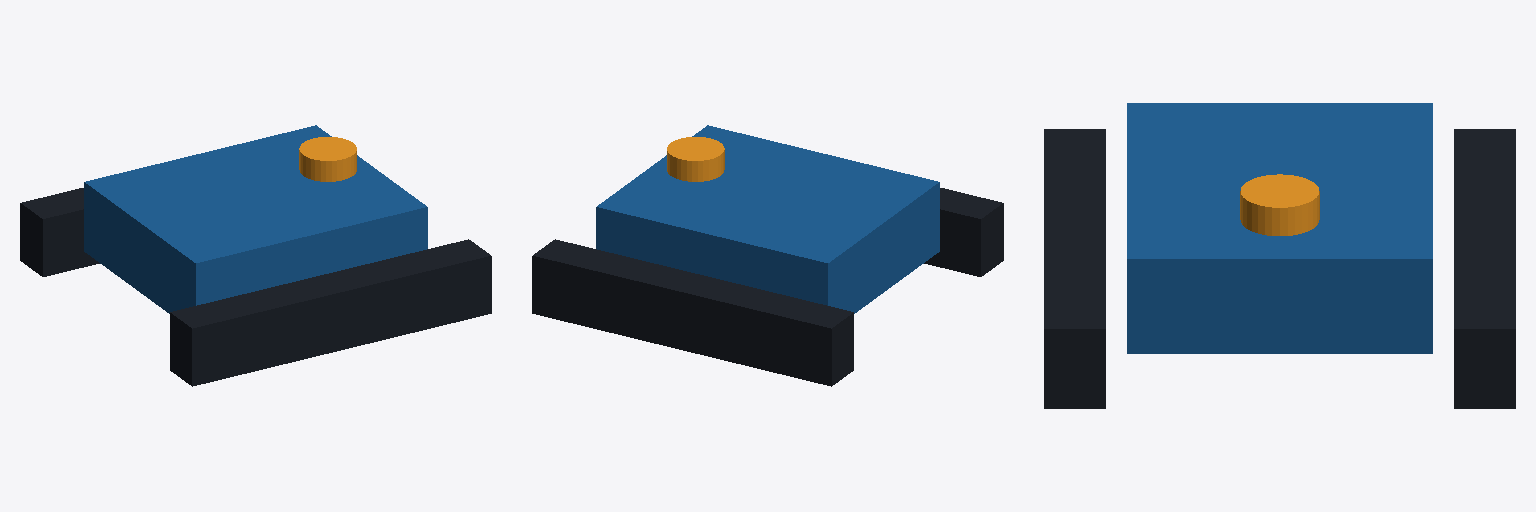
robot.urdf — tmr:
<?xml version="1.0" ?>
<!-- =================================================================================== -->
<!-- |    This document was autogenerated by xacro from /home/pvd/workspace/github-repos/TIL/Projects/Tracked_Mobile_Robot/05_ROS2_Integration/src/tmr_description/urdf/tmr.urdf.xacro | -->
<!-- |    EDITING THIS FILE BY HAND IS NOT RECOMMENDED                                 | -->
<!-- =================================================================================== -->
<robot name="tmr">
  <material name="chassis_blue">
    <color rgba="0.16 0.42 0.64 1"/>
  </material>
  <material name="track_gray">
    <color rgba="0.15 0.17 0.20 1"/>
  </material>
  <material name="sensor_amber">
    <color rgba="0.95 0.63 0.18 1"/>
  </material>
  <link name="base_footprint"/>
  <joint name="base_footprint_joint" type="fixed">
    <parent link="base_footprint"/>
    <child link="base_link"/>
    <origin xyz="0 0 0.05"/>
  </joint>
  <link name="base_link">
    <visual>
      <geometry>
        <box size="0.209 0.174 0.06"/>
      </geometry>
      <material name="chassis_blue"/>
    </visual>
    <visual>
      <origin xyz="0 0.1165 -0.025"/>
      <geometry>
        <box size="0.26949910223936435 0.035 0.05"/>
      </geometry>
      <material name="track_gray"/>
    </visual>
    <visual>
      <origin xyz="0 -0.1165 -0.025"/>
      <geometry>
        <box size="0.26949910223936435 0.035 0.05"/>
      </geometry>
      <material name="track_gray"/>
    </visual>
    <collision>
      <geometry>
        <box size="0.209 0.174 0.06"/>
      </geometry>
    </collision>
    <collision name="front_support">
      <origin xyz="0.09 0 -0.0398"/>
      <geometry>
        <sphere radius="0.01"/>
      </geometry>
    </collision>
    <collision name="rear_support">
      <origin xyz="-0.09 0 -0.0398"/>
      <geometry>
        <sphere radius="0.01"/>
      </geometry>
    </collision>
    <inertial>
      <mass value="3.05"/>
      <inertia ixx="0.008610149999999999" ixy="0" ixz="0" iyy="0.012017254166666665" iyz="0" izz="0.018797404166666663"/>
    </inertial>
  </link>
  <link name="left_wheel_link">
    <collision>
      <origin rpy="-1.5707963267948966 0 0"/>
      <geometry>
        <cylinder length="0.026" radius="0.021479551119682194"/>
      </geometry>
    </collision>
    <inertial>
      <mass value="0.1"/>
      <inertia ixx="1.7167611240909348e-05" ixy="0" ixz="0" iyy="2.306855581515203e-05" iyz="0" izz="1.7167611240909348e-05"/>
    </inertial>
  </link>
  <joint name="left_wheel_joint" type="continuous">
    <parent link="base_link"/>
    <child link="left_wheel_link"/>
    <origin xyz="0 0.1165 -0.02852044888031781"/>
    <axis xyz="0 1 0"/>
  </joint>
  <link name="right_wheel_link">
    <collision>
      <origin rpy="-1.5707963267948966 0 0"/>
      <geometry>
        <cylinder length="0.026" radius="0.021479551119682194"/>
      </geometry>
    </collision>
    <inertial>
      <mass value="0.1"/>
      <inertia ixx="1.7167611240909348e-05" ixy="0" ixz="0" iyy="2.306855581515203e-05" iyz="0" izz="1.7167611240909348e-05"/>
    </inertial>
  </link>
  <joint name="right_wheel_joint" type="continuous">
    <parent link="base_link"/>
    <child link="right_wheel_link"/>
    <origin xyz="0 -0.1165 -0.02852044888031781"/>
    <axis xyz="0 1 0"/>
  </joint>
  <link name="laser_frame">
    <visual>
      <geometry>
        <cylinder length="0.018" radius="0.0225"/>
      </geometry>
      <material name="sensor_amber"/>
    </visual>
  </link>
  <joint name="laser_joint" type="fixed">
    <parent link="base_link"/>
    <child link="laser_frame"/>
    <origin xyz="0.065 0 0.045"/>
  </joint>
  <link name="imu_link"/>
  <joint name="imu_joint" type="fixed">
    <parent link="base_link"/>
    <child link="imu_link"/>
    <origin xyz="0 0 0.035"/>
  </joint>
  <gazebo reference="laser_frame">
    <sensor name="tmr_lidar" type="gpu_lidar">
      <always_on>true</always_on>
      <update_rate>10</update_rate>
      <topic>/model/tmr/scan</topic>
      <gz_frame_id>laser_frame</gz_frame_id>
      <lidar>
        <scan>
          <horizontal>
            <samples>360</samples>
            <resolution>1</resolution>
            <min_angle>-3.141592653589793</min_angle>
            <max_angle>3.12413936106985</max_angle>
          </horizontal>
        </scan>
        <range>
          <min>0.10</min>
          <max>8.0</max>
          <resolution>0.01</resolution>
        </range>
      </lidar>
    </sensor>
  </gazebo>
  <gazebo>
    <plugin filename="gz-sim-diff-drive-system" name="gz::sim::systems::DiffDrive">
      <left_joint>left_wheel_joint</left_joint>
      <right_joint>right_wheel_joint</right_joint>
      <wheel_separation>0.233</wheel_separation>
      <wheel_radius>0.021479551119682194</wheel_radius>
      <frame_id>odom</frame_id>
      <child_frame_id>base_footprint</child_frame_id>
      <odom_publish_frequency>30</odom_publish_frequency>
    </plugin>
    <plugin filename="gz-sim-joint-state-publisher-system" name="gz::sim::systems::JointStatePublisher">
      <joint_name>left_wheel_joint</joint_name>
      <joint_name>right_wheel_joint</joint_name>
      <topic>/model/tmr/joint_states</topic>
      <update_rate>30</update_rate>
    </plugin>
  </gazebo>
</robot>

--- Facts derived from the render (not from the file) ---
3 views of the same robot in one strip: view 1: azimuth 30°, elevation 25°; view 2: azimuth 150°, elevation 25°; view 3: azimuth 270°, elevation 25° (orthographic).
Robot: tmr — 6 links, 5 joints (2 continuous, 3 fixed); root link base_footprint; default pose: every joint at zero.
Links seen in each view (by area): view 1: base_link, laser_frame; view 2: base_link, laser_frame; view 3: base_link, laser_frame.
Link boxes in pixels (<box>): base_link: <box>20,125,491,386</box>; laser_frame: <box>299,137,356,181</box>; base_link: <box>532,125,1003,386</box>; laser_frame: <box>667,137,724,181</box>; base_link: <box>1044,103,1515,408</box>; laser_frame: <box>1240,174,1319,235</box>.
Bounding box of the posed robot: 0.2695 × 0.268 × 0.104 m (x, y, z).
Geometry: primitives only (box / cylinder / sphere), no mesh files.
